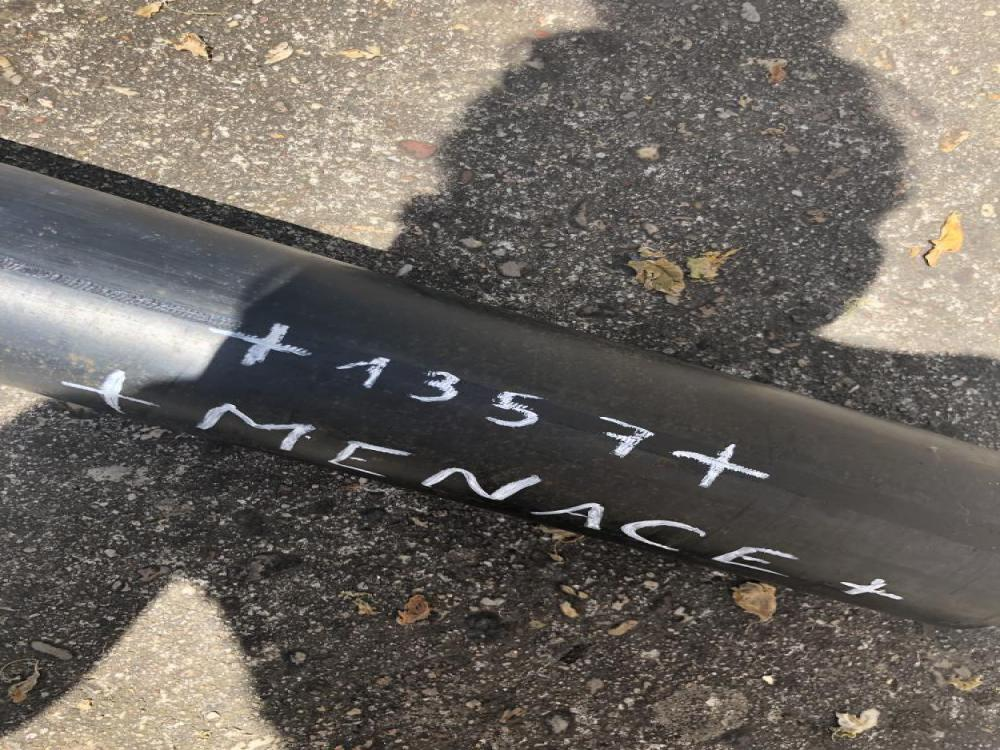+: (208, 323, 311, 365), (673, 444, 769, 489), (62, 371, 159, 415), (842, 578, 901, 600)
1: (339, 356, 397, 388)
3: (408, 371, 463, 403)
5: (488, 391, 543, 428)
7: (599, 415, 656, 458)
A: (535, 503, 609, 531)
C: (622, 519, 707, 555)
E: (331, 441, 414, 478), (712, 546, 798, 579)
M: (199, 402, 314, 452)
N: (424, 467, 543, 502)
